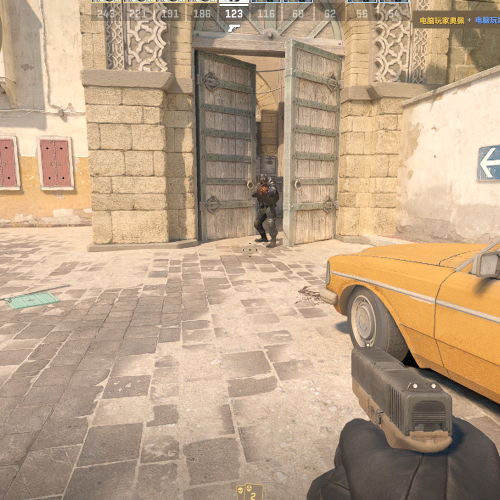ct_body: (252, 174, 279, 250)
ct_head: (259, 174, 270, 187)
